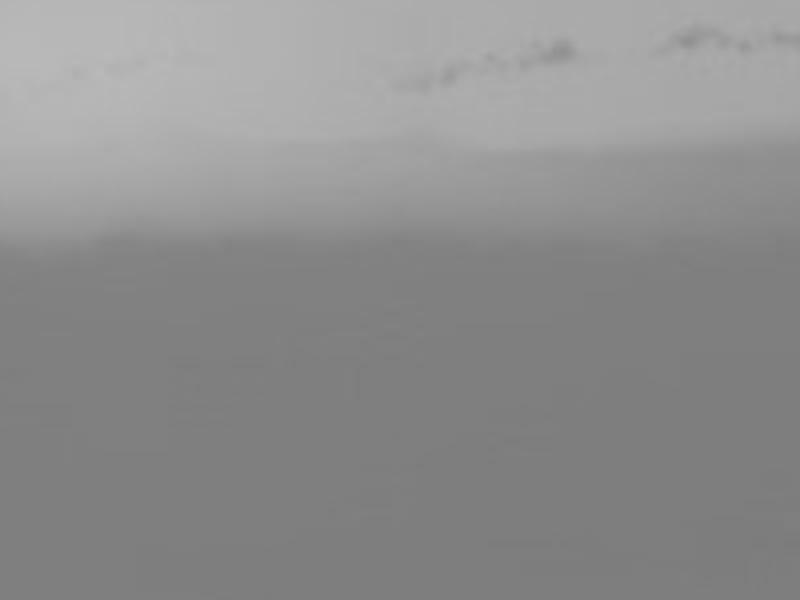defect: (520, 40, 578, 74), (665, 23, 715, 53), (443, 53, 473, 93), (395, 65, 435, 94), (719, 31, 757, 58), (59, 59, 92, 90), (481, 48, 514, 78), (765, 27, 800, 51), (127, 47, 151, 72), (99, 64, 122, 82)
